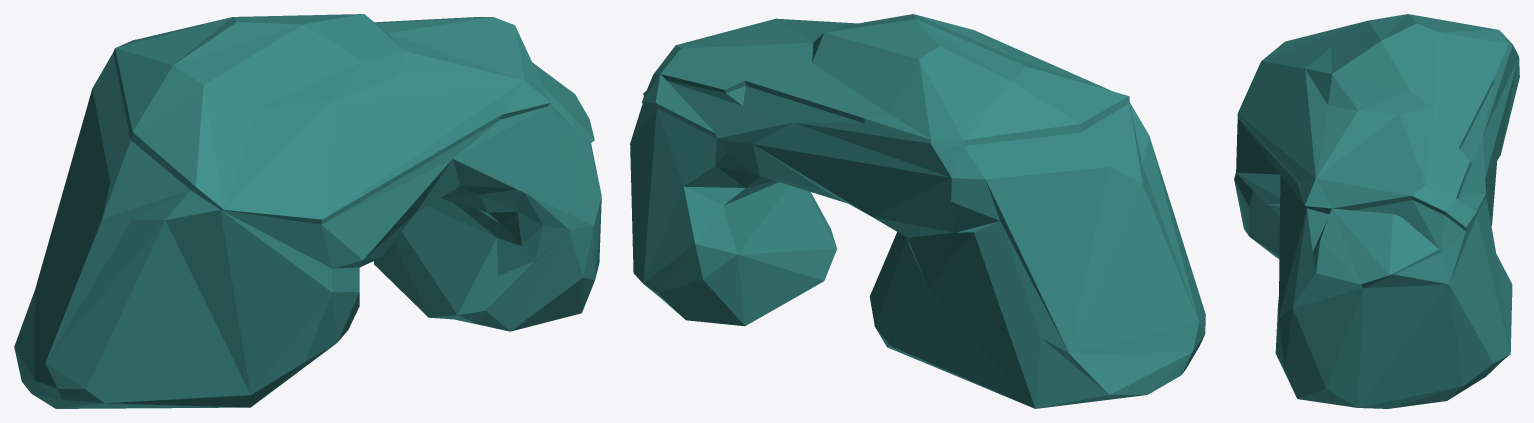
File: SM_Rock_Sea_Medium_Tunnel_Seaweed_A.fbx
3 views of the same model, side by side, from view 1: azimuth 30°, elevation 25°; view 2: azimuth 150°, elevation 25°; view 3: azimuth 270°, elevation 25° (orthographic). The views are drawn at different scales.
Visible parts, largest first — view 1: rock-sea-medium-tunnel-seaweed-a; view 2: rock-sea-medium-tunnel-seaweed-a; view 3: rock-sea-medium-tunnel-seaweed-a.
Boxes of the visible parts, x1,y1,x2,y2 form: rock-sea-medium-tunnel-seaweed-a: (14,14,601,408); rock-sea-medium-tunnel-seaweed-a: (630,14,1205,408); rock-sea-medium-tunnel-seaweed-a: (1234,14,1519,408).
Bounding box in the file's own units: 3.1 × 1.65 × 1.63.
